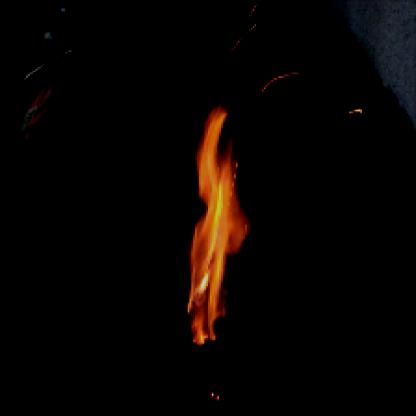Fire: (178, 102, 253, 342)
